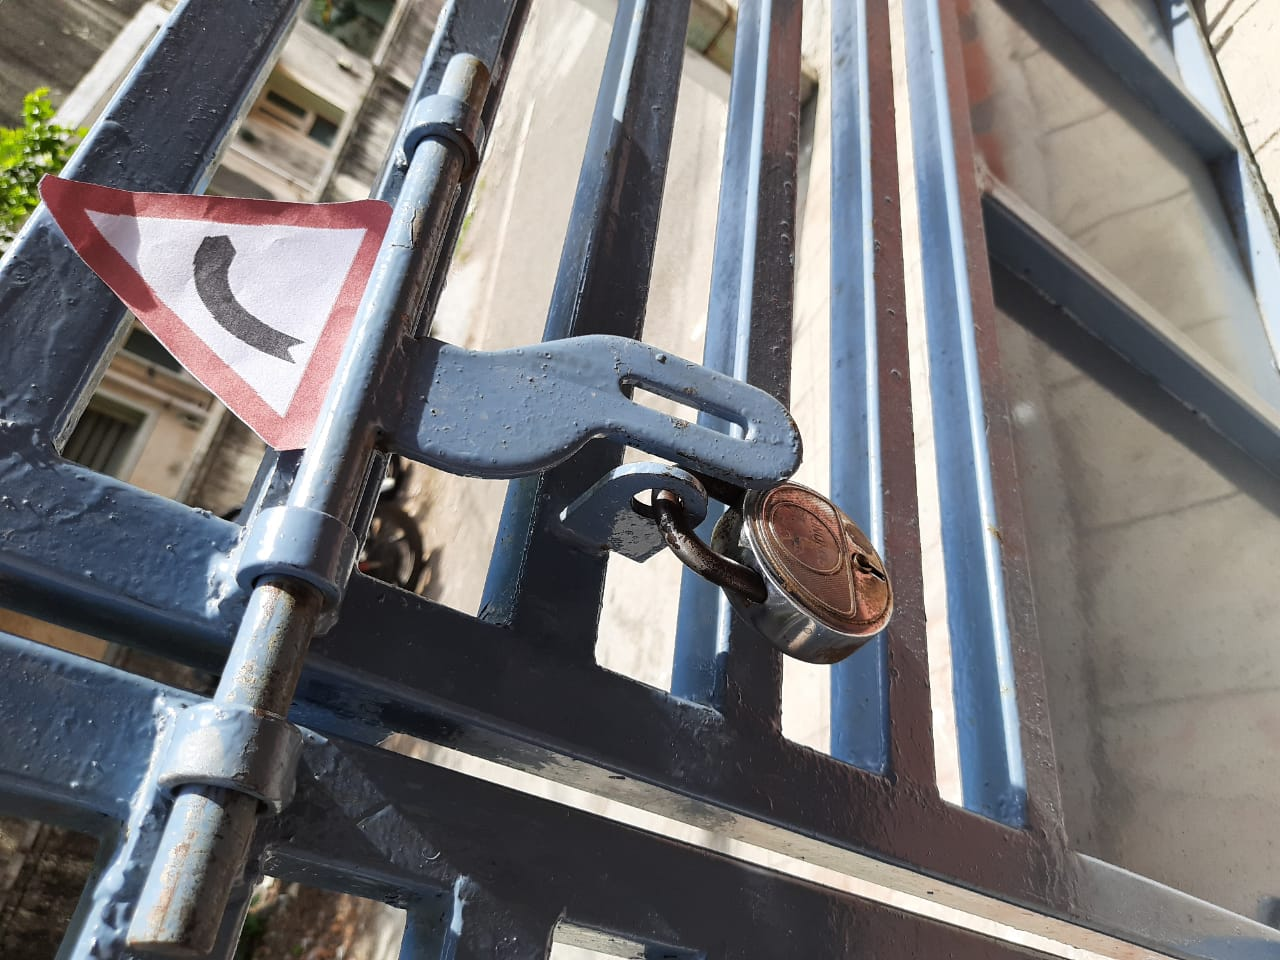RIGHT CURVE: (46, 102, 411, 460)
